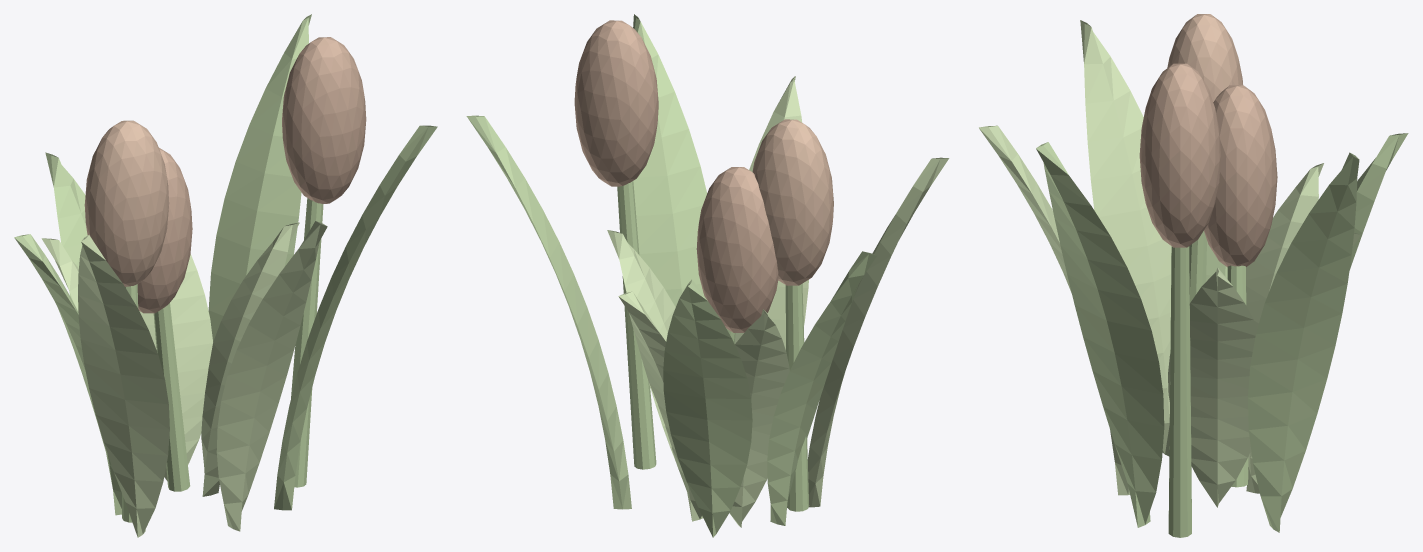
The model's file is cattails_three.glb.
The picture shows the model from 3 angles, left to right: view 1: azimuth 30°, elevation 25°; view 2: azimuth 150°, elevation 25°; view 3: azimuth 270°, elevation 25°; orthographic projection. The views are drawn at different scales.
Parts seen in each view (by area): view 1: cattails_three_02, cattails_three_06, cattails_three_07, cattails_three_14, cattails_three_12, cattails_three_03, cattails_three_00, cattails_three_04, cattails_three_10, cattails_three_09, cattails_three_05, cattails_three_13 (+2 smaller); view 2: cattails_three_01, cattails_three_14, cattails_three_03, cattails_three_10, cattails_three_12, cattails_three_05, cattails_three_07, cattails_three_02, cattails_three_08, cattails_three_13, cattails_three_00, cattails_three_04 (+2 smaller); view 3: cattails_three_07, cattails_three_03, cattails_three_02, cattails_three_00, cattails_three_14, cattails_three_10, cattails_three_13, cattails_three_08, cattails_three_12, cattails_three_06, cattails_three_01, cattails_three_11 (+1 smaller).
Part boxes in pixels (box(x1,y1,x2,y2)): cattails_three_02: box(78, 235, 169, 537); cattails_three_06: box(216, 221, 327, 531); cattails_three_07: box(208, 14, 311, 341); cattails_three_14: box(282, 37, 366, 203); cattails_three_12: box(84, 120, 169, 286); cattails_three_03: box(274, 125, 437, 510); cattails_three_00: box(201, 222, 299, 496); cattails_three_04: box(139, 254, 212, 481); cattails_three_10: box(137, 148, 192, 313); cattails_three_09: box(153, 303, 190, 491); cattails_three_05: box(14, 234, 121, 515); cattails_three_13: box(291, 198, 323, 487); cattails_three_01: box(663, 279, 752, 537); cattails_three_14: box(574, 20, 658, 186); cattails_three_03: box(633, 14, 707, 306); cattails_three_10: box(696, 167, 778, 332); cattails_three_12: box(752, 119, 833, 285); cattails_three_05: box(767, 251, 876, 525); cattails_three_07: box(466, 115, 631, 509); cattails_three_02: box(807, 157, 949, 507); cattails_three_08: box(729, 309, 789, 527); cattails_three_13: box(617, 181, 656, 469); cattails_three_00: box(607, 230, 675, 458); cattails_three_04: box(618, 291, 702, 521); cattails_three_07: box(1248, 152, 1359, 532); cattails_three_03: box(1036, 142, 1164, 527); cattails_three_02: box(1080, 20, 1171, 456); cattails_three_00: box(1168, 267, 1257, 507); cattails_three_14: box(1139, 63, 1221, 247); cattails_three_10: box(1204, 85, 1277, 267); cattails_three_13: box(1168, 246, 1191, 537); cattails_three_08: box(1246, 163, 1323, 469); cattails_three_12: box(1167, 14, 1242, 101); cattails_three_06: box(979, 125, 1129, 495); cattails_three_01: box(1349, 133, 1408, 269); cattails_three_11: box(1189, 231, 1206, 303).
Size of the model in its own units: 0.9934 by 1.18 by 0.9392.
